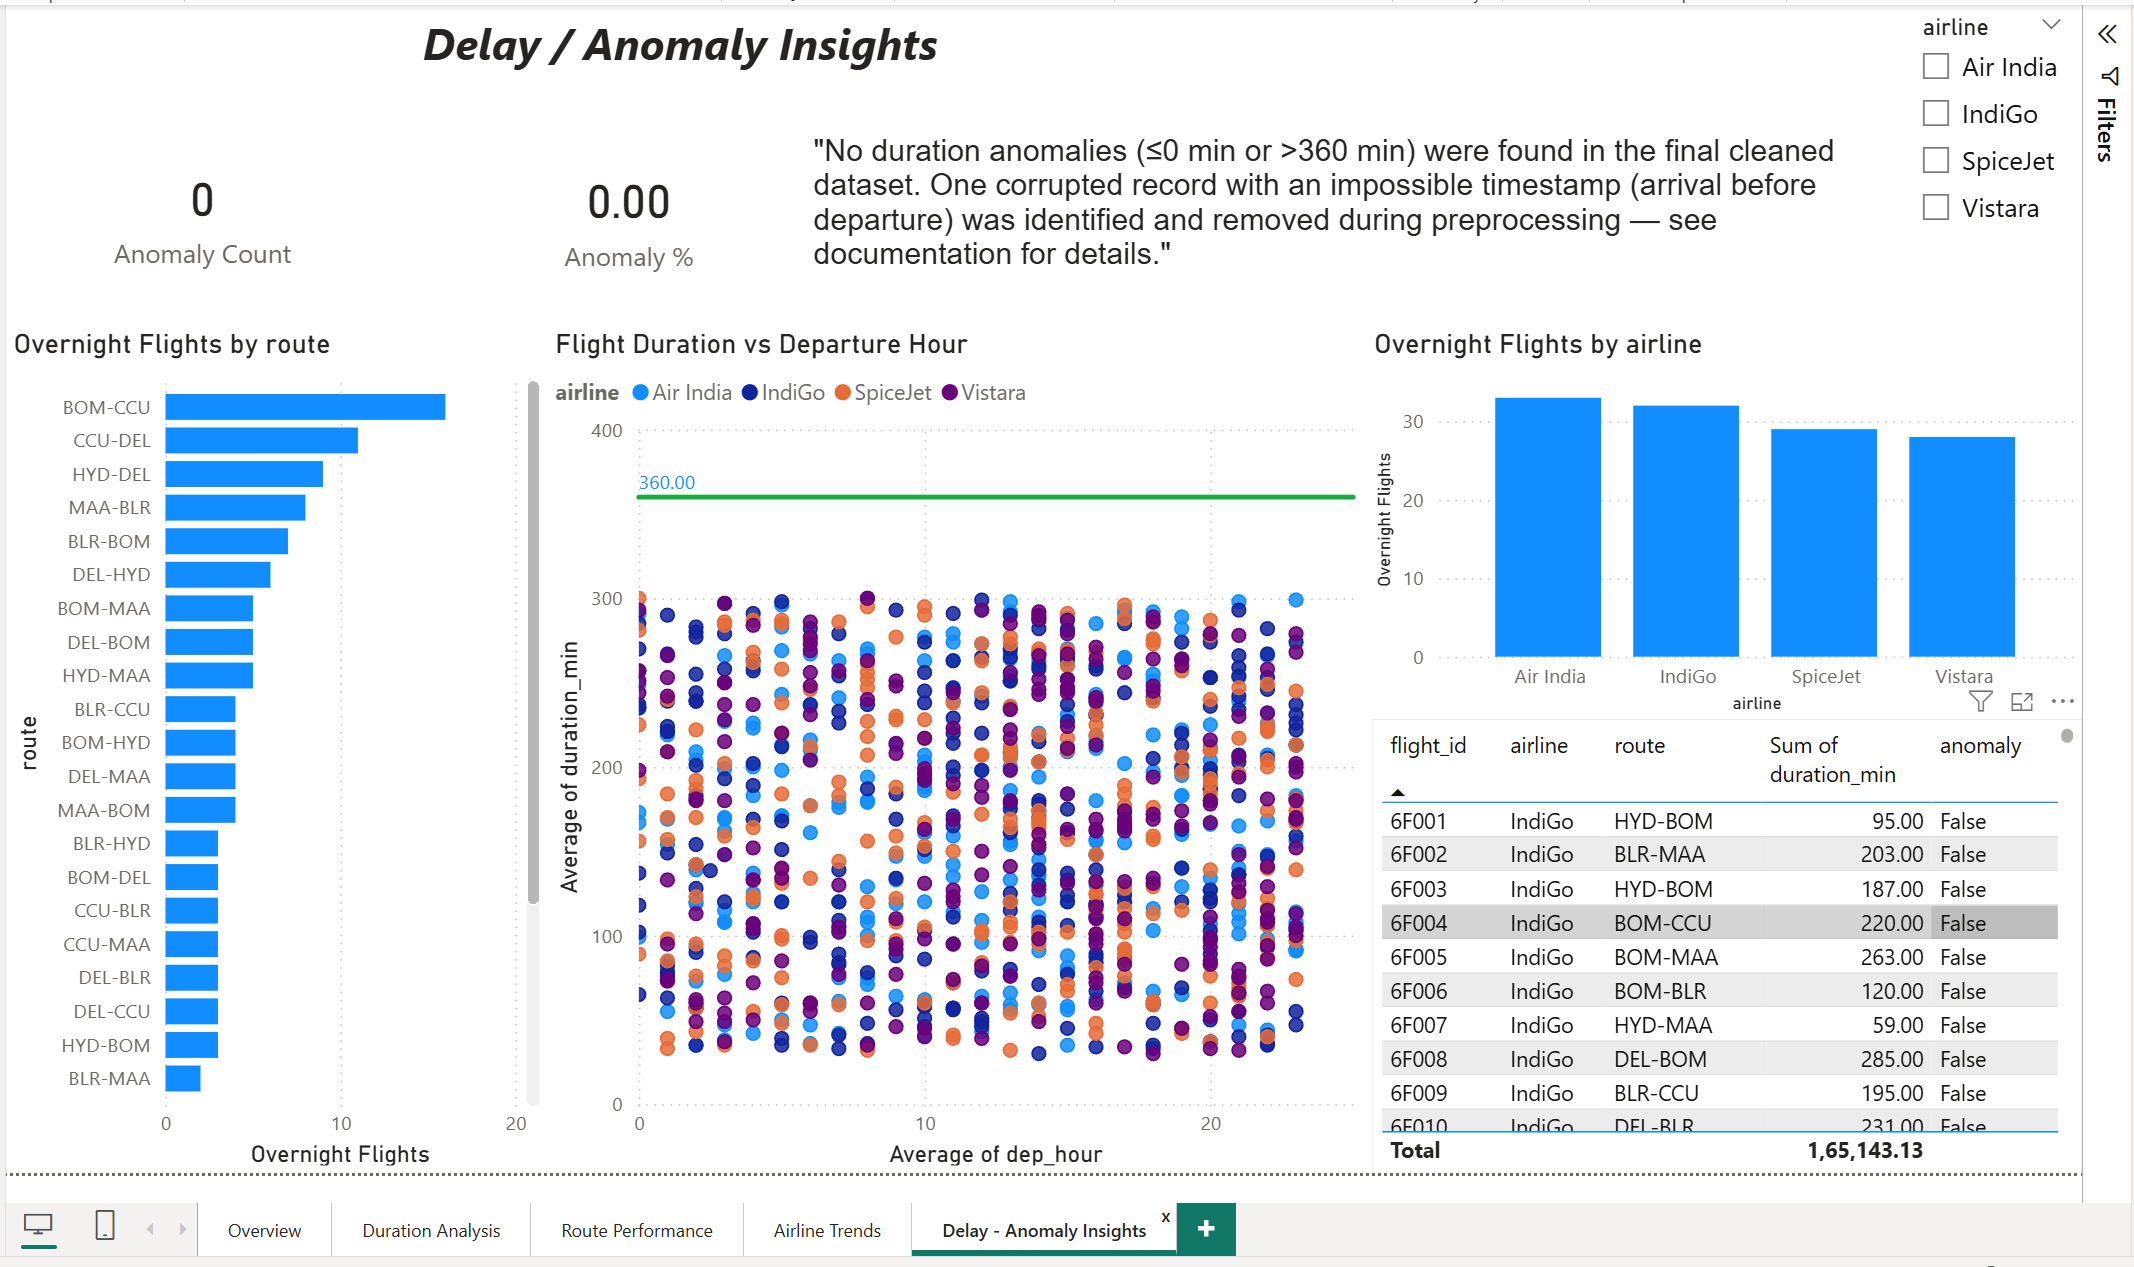

This screenshot's page, from the dashboard's own definition file:
{"tool":"powerbi","page":{"name":"Delay - Anomaly Insights","canvas":[1280,720],"ordinal":4},"visuals":[{"type":"textbox","box":[9.6,0,829,63.4],"z":0},{"type":"card","fields":{"Values":["flights_cleaned.Anomaly Count"]},"box":[0,58.6,241.6,140],"z":1},{"type":"card","fields":{"Values":["flights_cleaned.Anomaly %"]},"box":[241.6,61,284.7,137.6],"z":2},{"type":"textbox","box":[492.9,74.2,675.9,124.4],"z":4},{"type":"scatterChart","title":"Flight Duration vs Departure Hour","fields":{"X":["Avg(flights_cleaned.dep_hour)"],"Y":["Avg(flights_cleaned.duration_min)"],"Category":["flights_cleaned.flight_id"],"Series":["flights_cleaned.airline"]},"box":[333.8,198.6,508.4,521.6],"z":5},{"type":"clusteredColumnChart","fields":{"Category":["flights_cleaned.airline"],"Y":["flights_cleaned.Overnight Flights"]},"box":[838.6,198.6,441.4,241.6],"z":6},{"type":"barChart","fields":{"Y":["flights_cleaned.Overnight Flights"],"Category":["flights_cleaned.route"]},"box":[0,198.6,333.8,521.6],"z":7},{"type":"tableEx","fields":{"Values":["flights_cleaned.flight_id","flights_cleaned.airline","flights_cleaned.route","Sum(flights_cleaned.duration_min)","flights_cleaned.anomaly"]},"box":[842.2,440.2,437.8,279.9],"z":8},{"type":"slicer","fields":{"Values":["flights_cleaned.airline"]},"box":[1168.7,0,111.3,147.1],"z":9}]}

Visuals, with their boxes on the page's 1280x720 design canvas (x1, y1, x2, y2). These are canvas units, not pixel positions in the 2134x1267 screenshot, which may show the page scaled, cropped or inside an application window:
textbox: box=[10, 0, 839, 63]
card - flights_cleaned.Anomaly Count: box=[0, 59, 242, 199]
card - flights_cleaned.Anomaly %: box=[242, 61, 526, 199]
textbox: box=[493, 74, 1169, 199]
"Flight Duration vs Departure Hour" scatterChart: box=[334, 199, 842, 720]
clusteredColumnChart - flights_cleaned.airline x flights_cleaned.Overnight Flights: box=[839, 199, 1280, 440]
barChart - flights_cleaned.Overnight Flights x flights_cleaned.route: box=[0, 199, 334, 720]
tableEx - flights_cleaned.flight_id x flights_cleaned.airline: box=[842, 440, 1280, 720]
slicer - flights_cleaned.airline: box=[1169, 0, 1280, 147]
